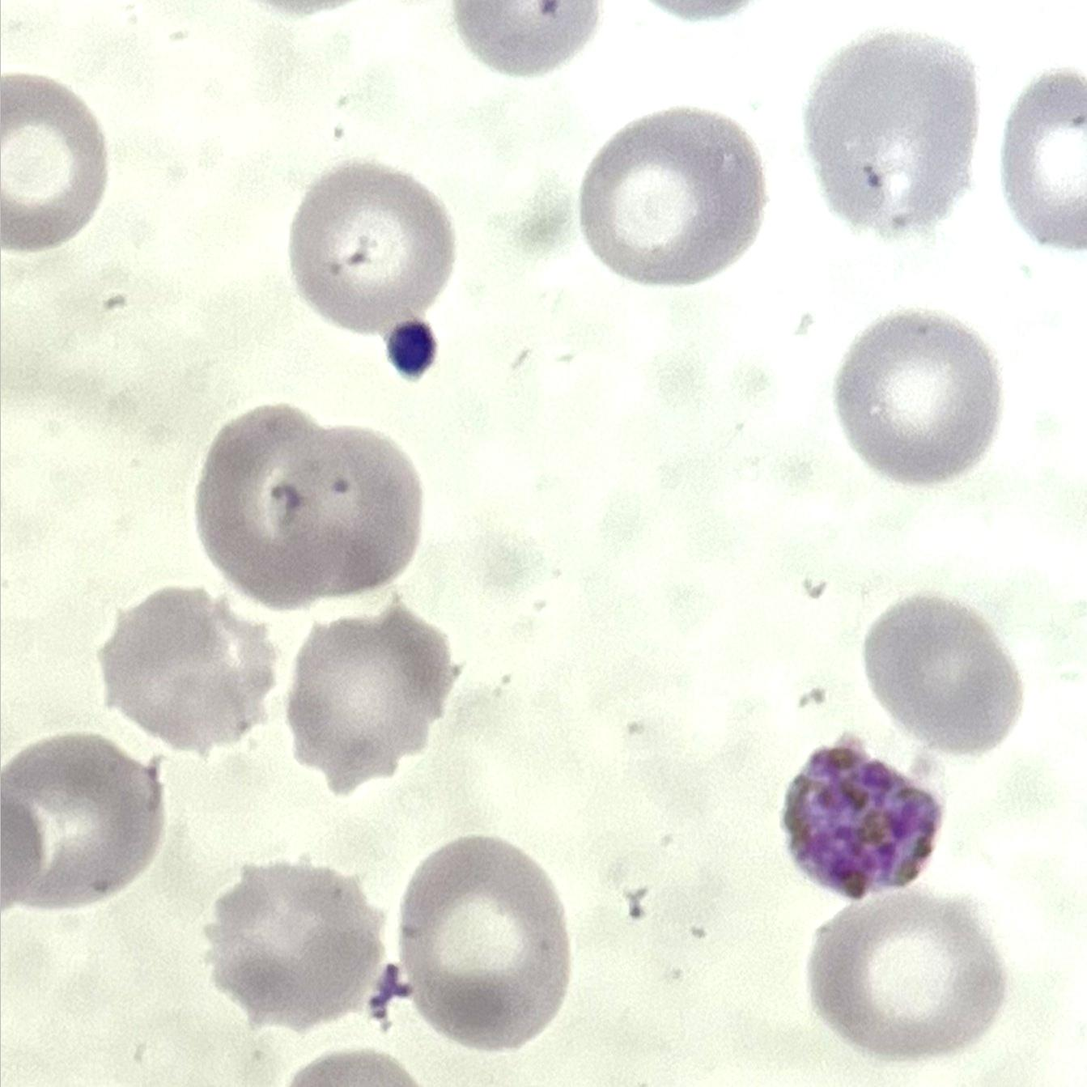Infected: (780, 735, 949, 899)
Uninfected: (397, 829, 571, 1056), (809, 28, 978, 235), (585, 103, 767, 291), (192, 403, 353, 609), (812, 891, 1001, 1063), (197, 856, 377, 1030), (289, 605, 451, 797), (103, 581, 271, 759), (0, 729, 165, 910), (834, 308, 997, 491), (283, 157, 454, 330), (861, 597, 1024, 761), (278, 419, 416, 595), (0, 71, 102, 253)
